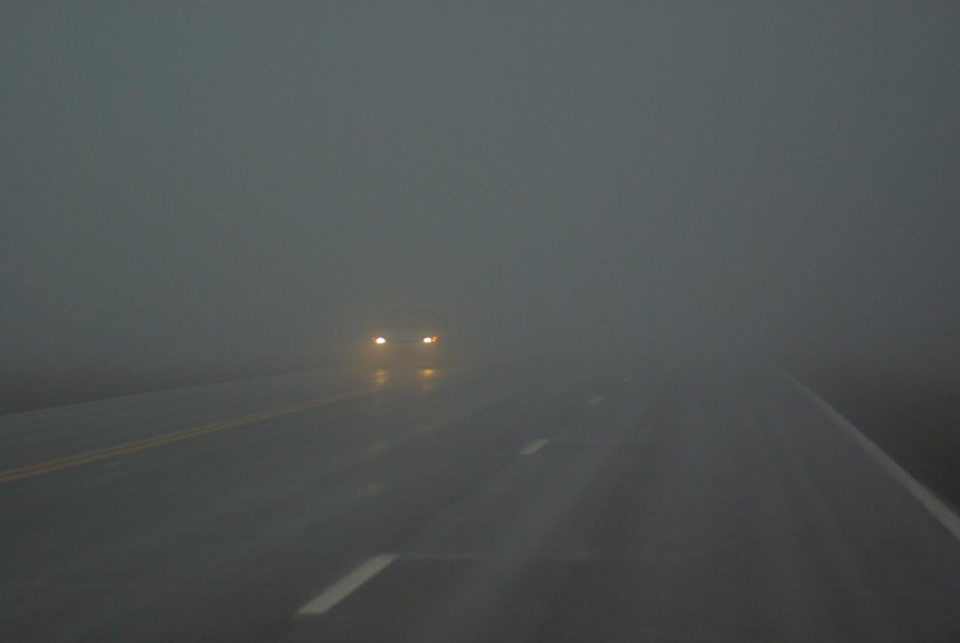car: (367, 308, 454, 368)
